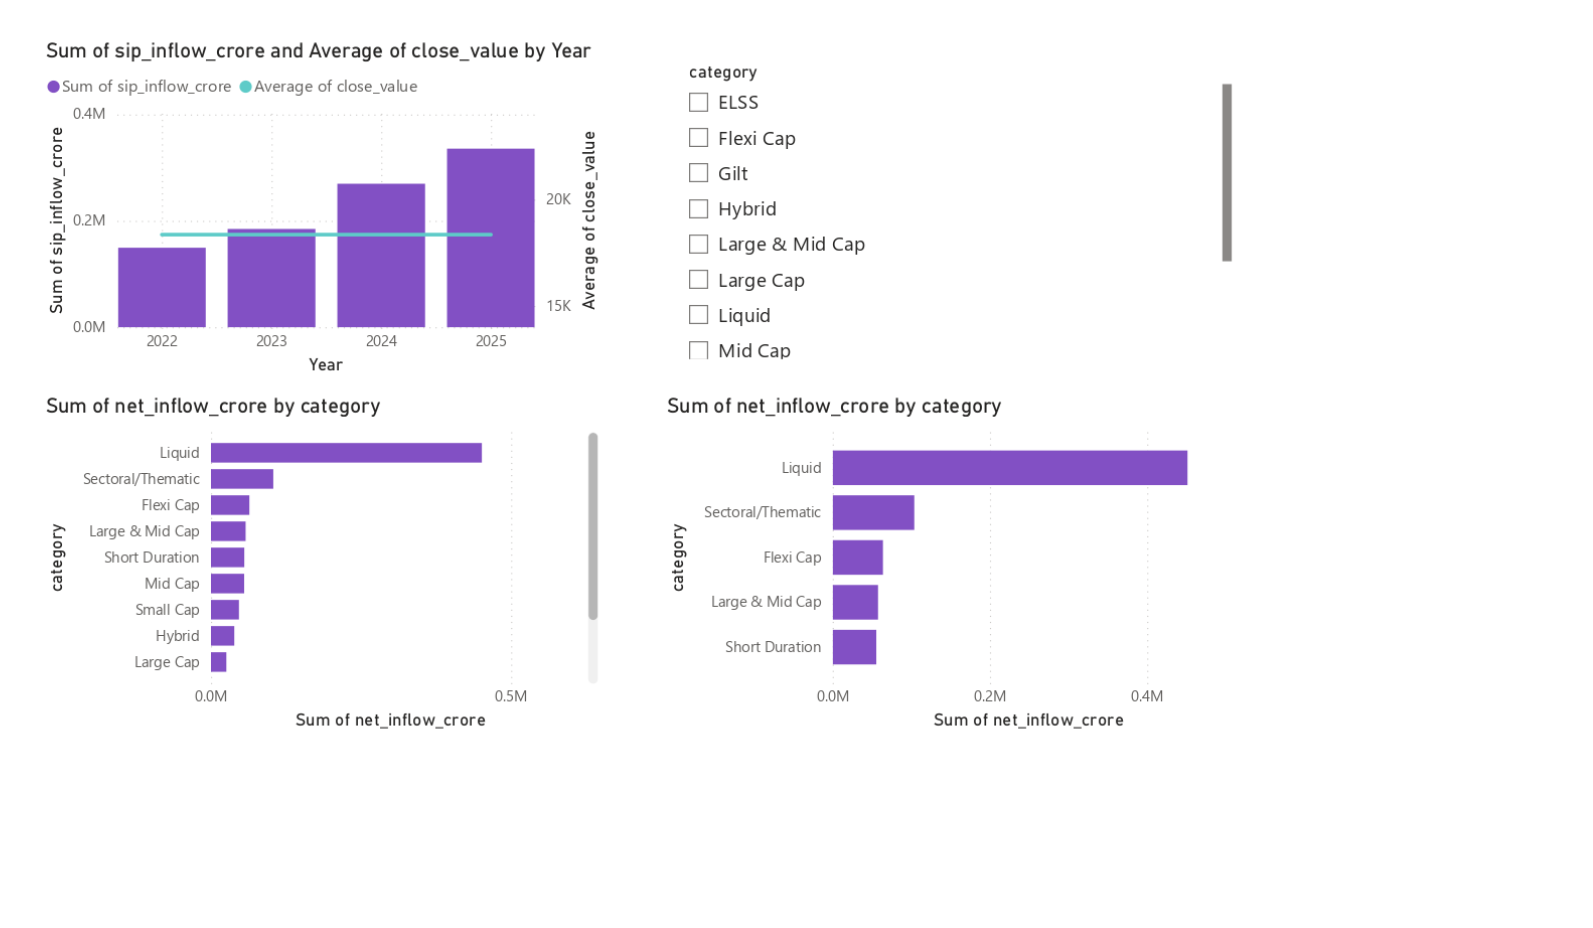

The dashboard page shown, as its layout file describes it:
{"tool":"powerbi","page":{"name":"SIP & Market Trends","canvas":[1280,720],"ordinal":3},"visuals":[{"type":"lineClusteredColumnComboChart","fields":{"Category":["04_monthly_sip_inflows_cleaned.month.Variation.Date Hierarchy.Year","04_monthly_sip_inflows_cleaned.month.Variation.Date Hierarchy.Quarter","04_monthly_sip_inflows_cleaned.month.Variation.Date Hierarchy.Month","04_monthly_sip_inflows_cleaned.month.Variation.Date Hierarchy.Day"],"Y":["Sum(04_monthly_sip_inflows_cleaned.sip_inflow_crore)"],"Y2":["Avg(10_benchmark_indices_cleaned.close_value)"]},"box":[10,0,461.1,280],"z":0},{"type":"clusteredBarChart","fields":{"Category":["05_category_inflows_cleaned.category"],"Y":["Sum(05_category_inflows_cleaned.net_inflow_crore)"]},"box":[10,290,461,280],"z":1},{"type":"clusteredBarChart","fields":{"Category":["05_category_inflows_cleaned.category"],"Y":["Sum(05_category_inflows_cleaned.net_inflow_crore)"]},"box":[517.8,290,480,280],"z":2},{"type":"slicer","fields":{"Values":["05_category_inflows_cleaned.category"]},"box":[527.8,14.4,461.1,253.3],"z":3}]}

Visuals, with their boxes on the page's 1280x720 design canvas (x1, y1, x2, y2). These are canvas units, not pixel positions in the 1593x928 screenshot, which may show the page scaled, cropped or inside an application window:
lineClusteredColumnComboChart - 04_monthly_sip_inflows_cleaned.month.Variation.Date Hierarchy.Year x 04_monthly_sip_inflows_cleaned.month.Variation.Date Hierarchy.Quarter: (10, 0, 471, 280)
clusteredBarChart - 05_category_inflows_cleaned.category x Sum(05_category_inflows_cleaned.net_inflow_crore): (10, 290, 471, 570)
clusteredBarChart - 05_category_inflows_cleaned.category x Sum(05_category_inflows_cleaned.net_inflow_crore): (518, 290, 998, 570)
slicer - 05_category_inflows_cleaned.category: (528, 14, 989, 268)
